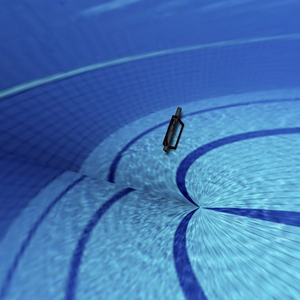submarine: (145, 98, 195, 166)
